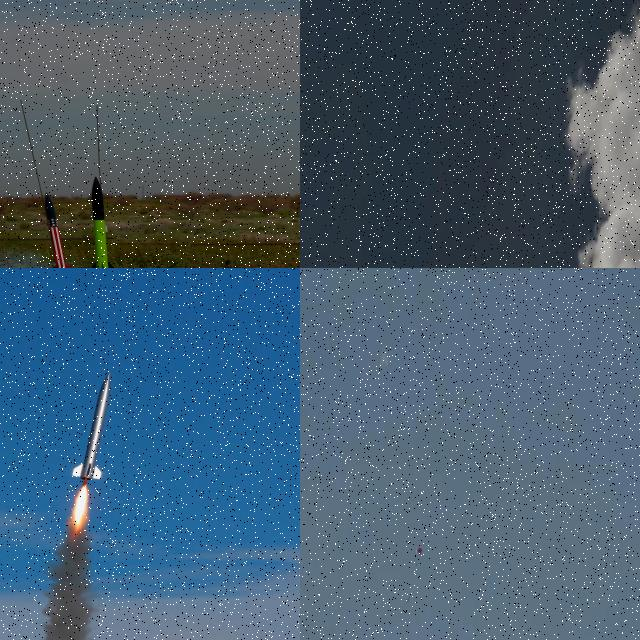Rocket: (72, 372, 111, 481), (84, 176, 122, 268), (42, 192, 78, 268)
